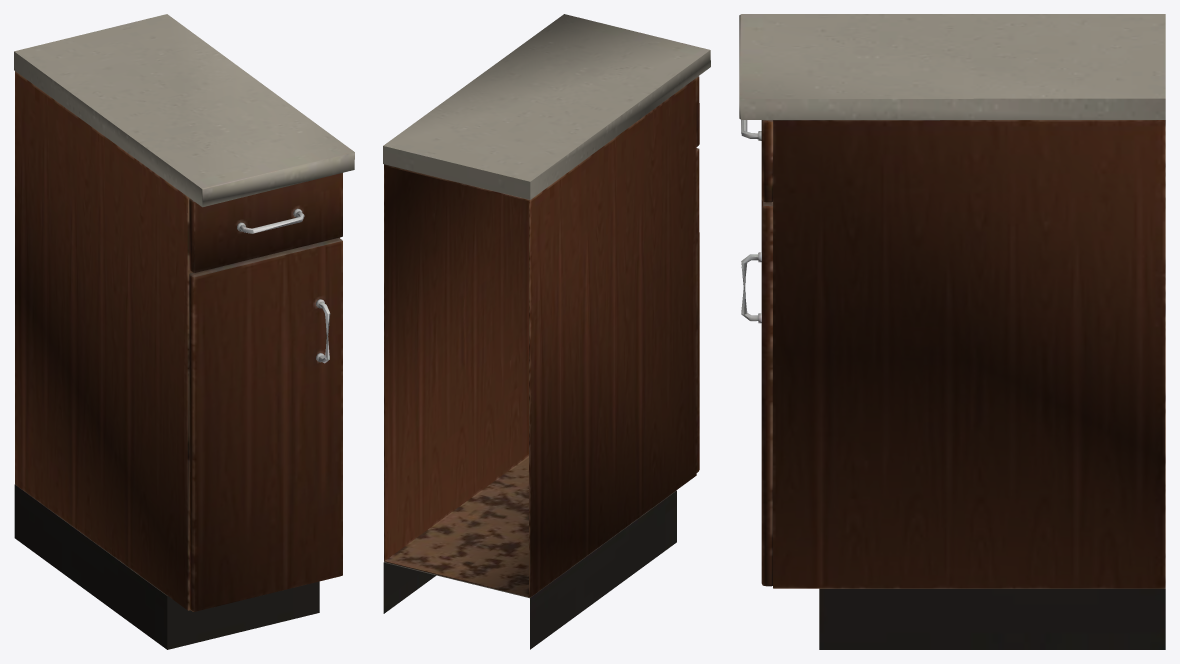
The model's file is kit_base_30-low.glb.
3 views of the same model, side by side, from view 1: azimuth 30°, elevation 25°; view 2: azimuth 150°, elevation 25°; view 3: azimuth 270°, elevation 25° (orthographic). The views are drawn at different scales.
Parts seen in each view (by area): view 1: kit_base_30-low; view 2: kit_base_30-low; view 3: kit_base_30-low.
Boxes of the visible parts, x1,y1,x2,y2 form: kit_base_30-low: [14, 14, 354, 649]; kit_base_30-low: [383, 14, 710, 649]; kit_base_30-low: [739, 14, 1165, 649].
Bounding box in the file's own units: 0.298 × 0.905 × 0.6343.
Materials: 1 (1 with a texture image).
